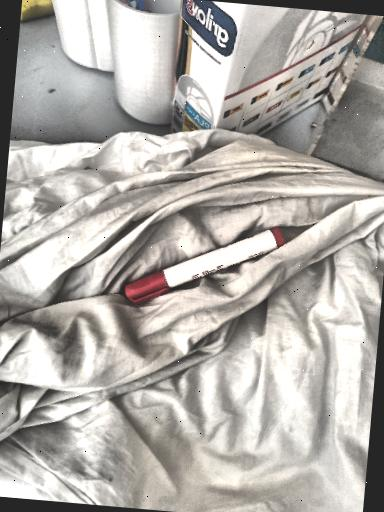marcador rojo: (124, 226, 284, 304)
